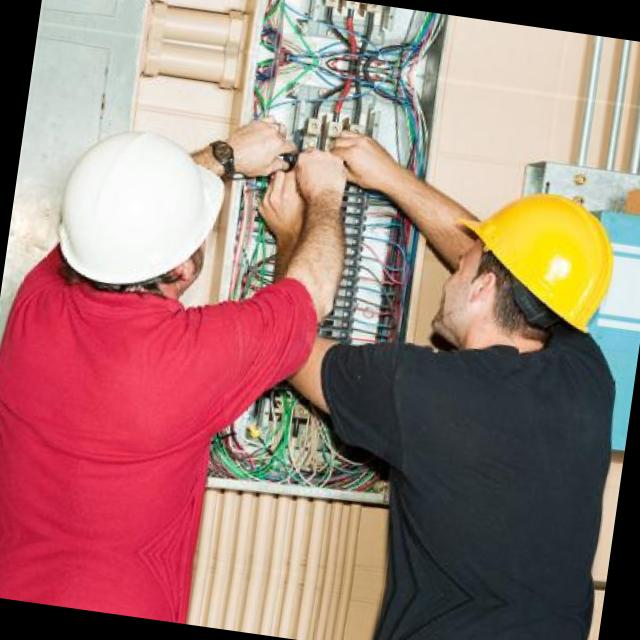helmet: (14, 98, 262, 347), (411, 148, 640, 400)
